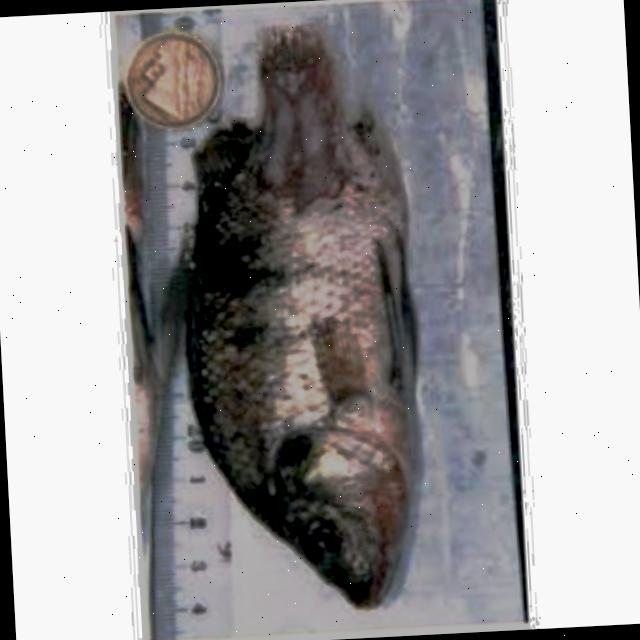Columnaris Disease: (185, 28, 411, 605)
